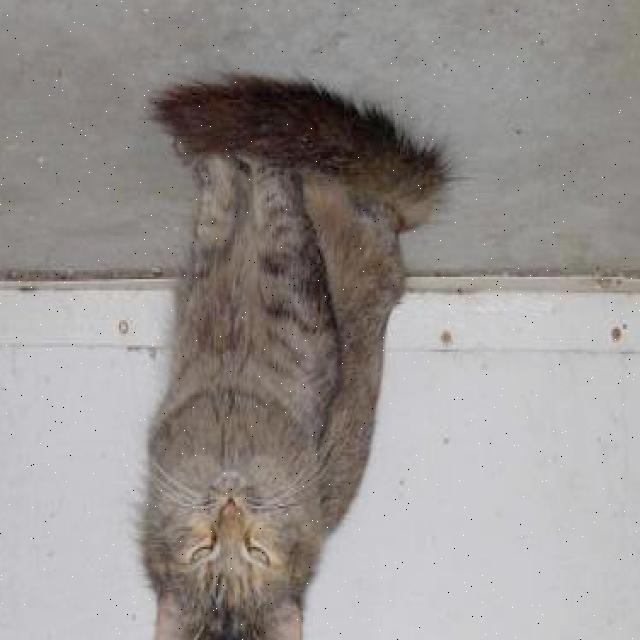Cat: (138, 443, 322, 640)
